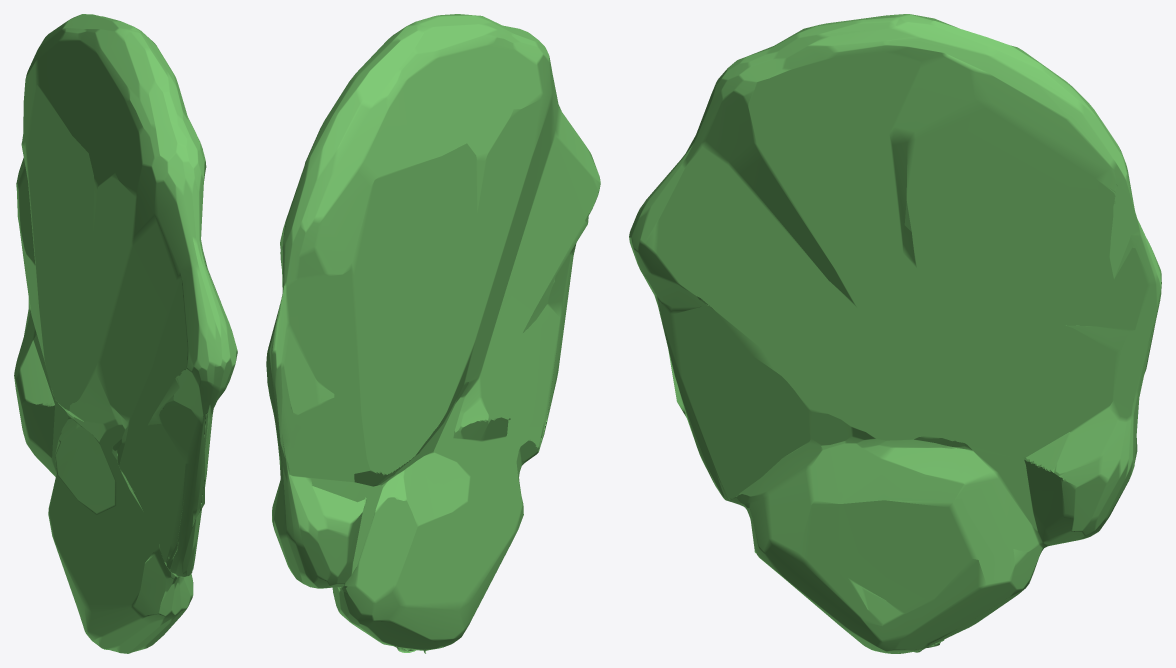
Rendered from cactus_desert.fbx_Cactus_Leaf__1_LODs.fbx.
3 renders of one model, left to right at view 1: azimuth 30°, elevation 25°; view 2: azimuth 150°, elevation 25°; view 3: azimuth 270°, elevation 25°, orthographic. The views are drawn at different scales.
Parts seen in each view (by area): view 1: Cactus Leaf (1)_LOD0; view 2: Cactus Leaf (1)_LOD0; view 3: Cactus Leaf (1)_LOD0.
Part boxes in pixels (bbox=[...]): Cactus Leaf (1)_LOD0: bbox=[14, 14, 237, 653]; Cactus Leaf (1)_LOD0: bbox=[266, 14, 600, 653]; Cactus Leaf (1)_LOD0: bbox=[629, 14, 1161, 653].
Size of what is drawn, in the model's own units: 306 by 1694 by 1286.
